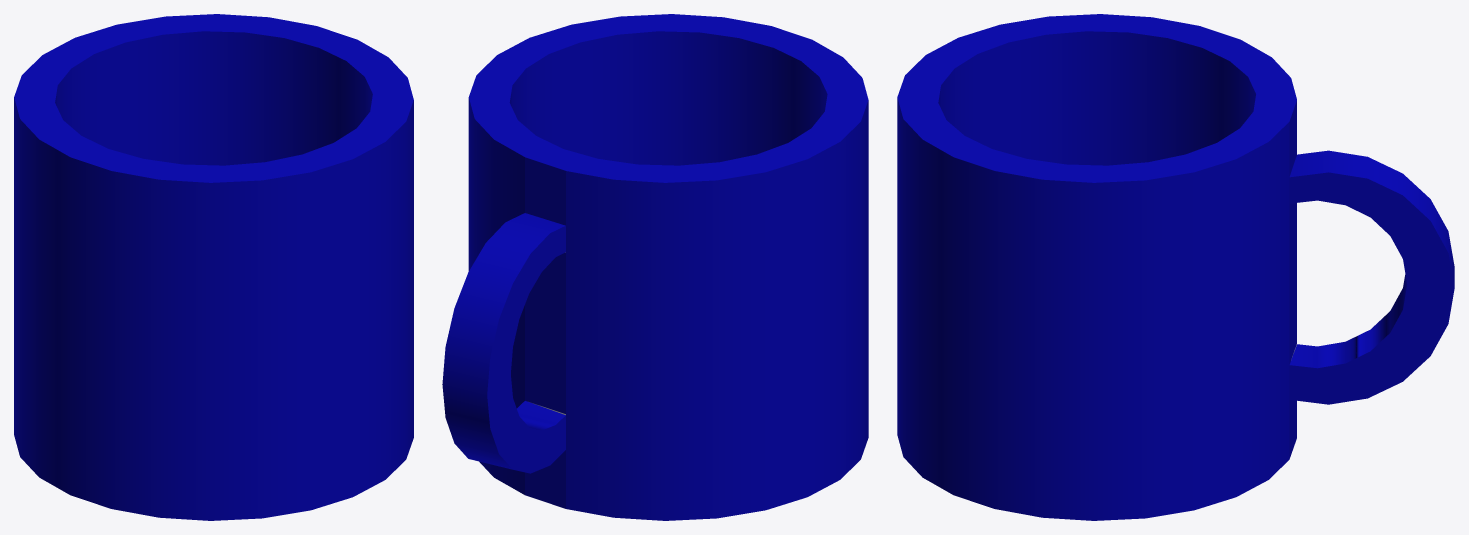
3 views of the same model, side by side, from view 1: azimuth 30°, elevation 25°; view 2: azimuth 150°, elevation 25°; view 3: azimuth 270°, elevation 25° (orthographic).
Parts seen in each view (by area): view 1: mesh1_mesh1-geometry; view 2: mesh1_mesh1-geometry; view 3: mesh1_mesh1-geometry.
Part boxes in pixels (x1,y1,x2,y2): mesh1_mesh1-geometry: (14,14,413,520); mesh1_mesh1-geometry: (442,14,868,520); mesh1_mesh1-geometry: (897,14,1454,520).
Size of the model in its own units: 0.5121 by 0.4778 by 0.7138.
